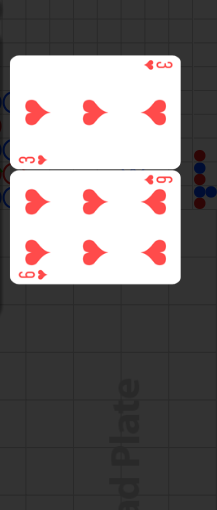3H: (142, 59, 173, 72)
6H: (18, 268, 49, 281)
